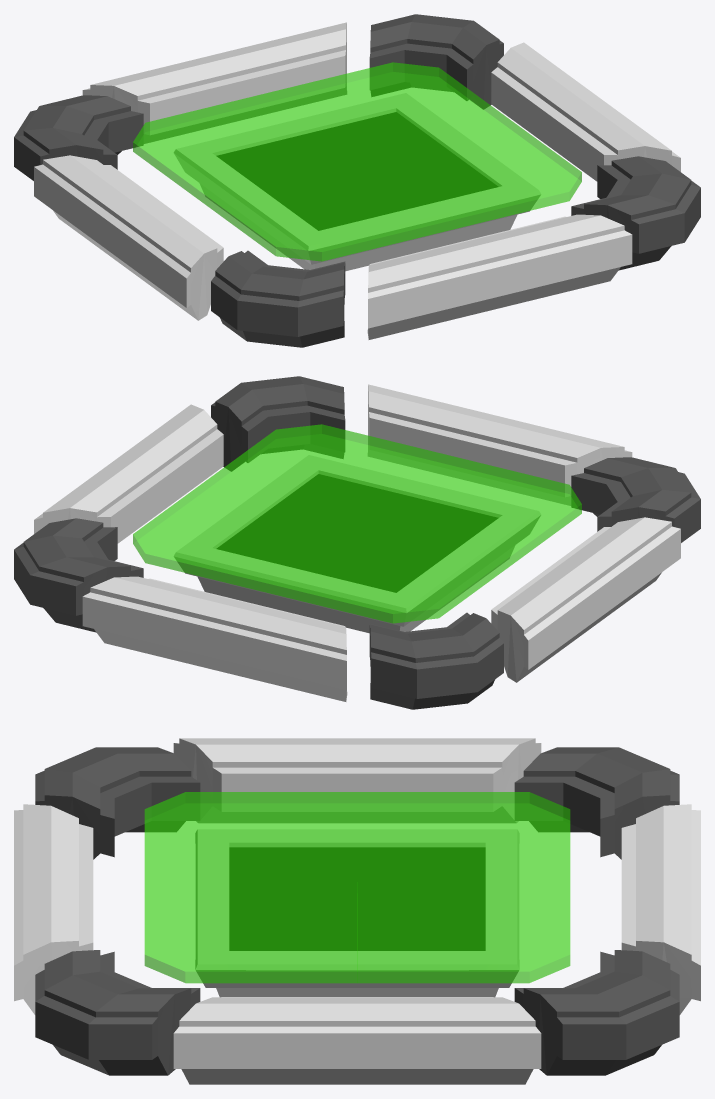
Rendered from jump_pad.fbx.
3 renders of one model, top to bottom at view 1: azimuth 30°, elevation 25°; view 2: azimuth 150°, elevation 25°; view 3: azimuth 270°, elevation 25°, orthographic. The views are drawn at different scales.
Parts seen in each view (by area): view 1: polySurface36; view 2: polySurface36; view 3: polySurface36.
Boxes of the visible parts, x1=… form: polySurface36: x1=14, y1=14, x2=700, y2=347; polySurface36: x1=14, y1=376, x2=700, y2=709; polySurface36: x1=14, y1=738, x2=700, y2=1084.
Size of the model in its own units: 64.4 by 7.9 by 64.4.
